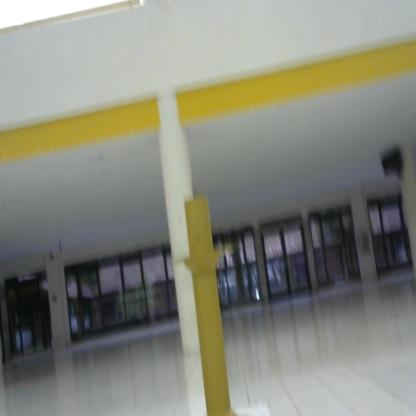pole: (173, 190, 249, 416)
